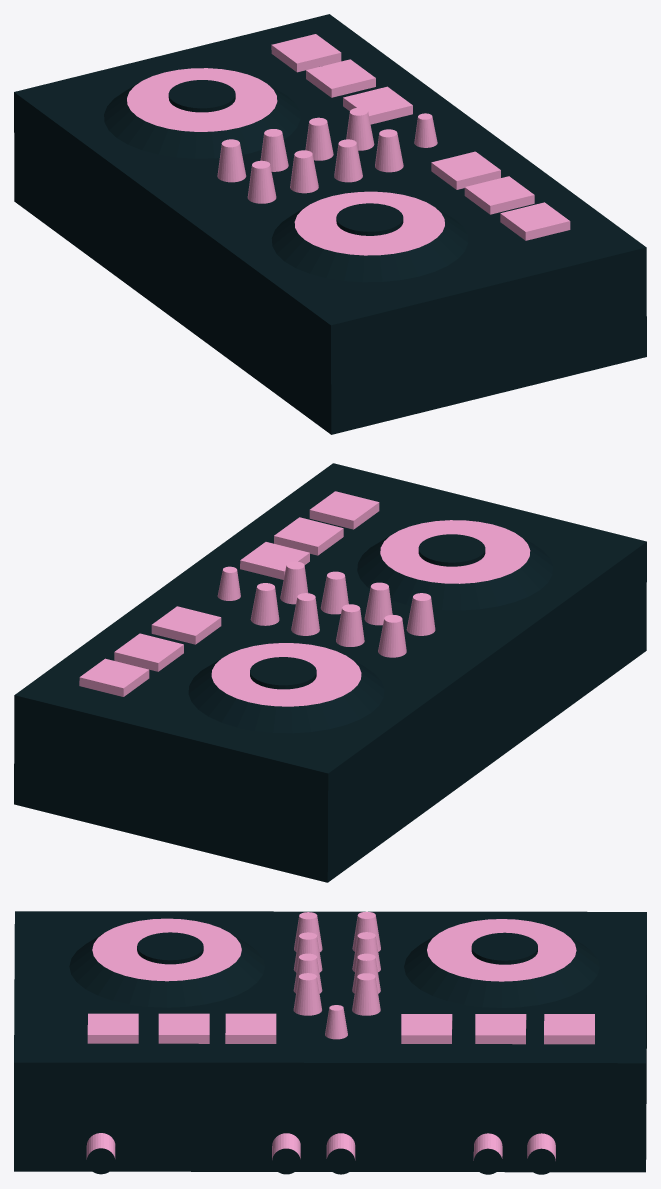
File: controller.glb
The picture shows the model from 3 angles, top to bottom: view 1: azimuth 30°, elevation 25°; view 2: azimuth 150°, elevation 25°; view 3: azimuth 270°, elevation 25°; orthographic projection.
Parts seen in each view (by area): view 1: Controller, padsss, pads; view 2: Controller, padsss, pads; view 3: Controller, padsss, pads, buttons.001, buttons.
Part boxes in pixels (x1=…): Controller: x1=14, y1=14, x2=646, y2=434; padsss: x1=127, y1=68, x2=444, y2=255; pads: x1=271, y1=34, x2=570, y2=240; Controller: x1=14, y1=463, x2=646, y2=882; padsss: x1=211, y1=520, x2=530, y2=706; pads: x1=79, y1=491, x2=379, y2=696; Controller: x1=14, y1=911, x2=646, y2=1172; padsss: x1=92, y1=911, x2=576, y2=1039; pads: x1=87, y1=1013, x2=594, y2=1044; buttons.001: x1=86, y1=1148, x2=555, y2=1174; buttons: x1=86, y1=1133, x2=555, y2=1160.
Size of the model in its own units: 7.63 by 3.01 by 12.09.
